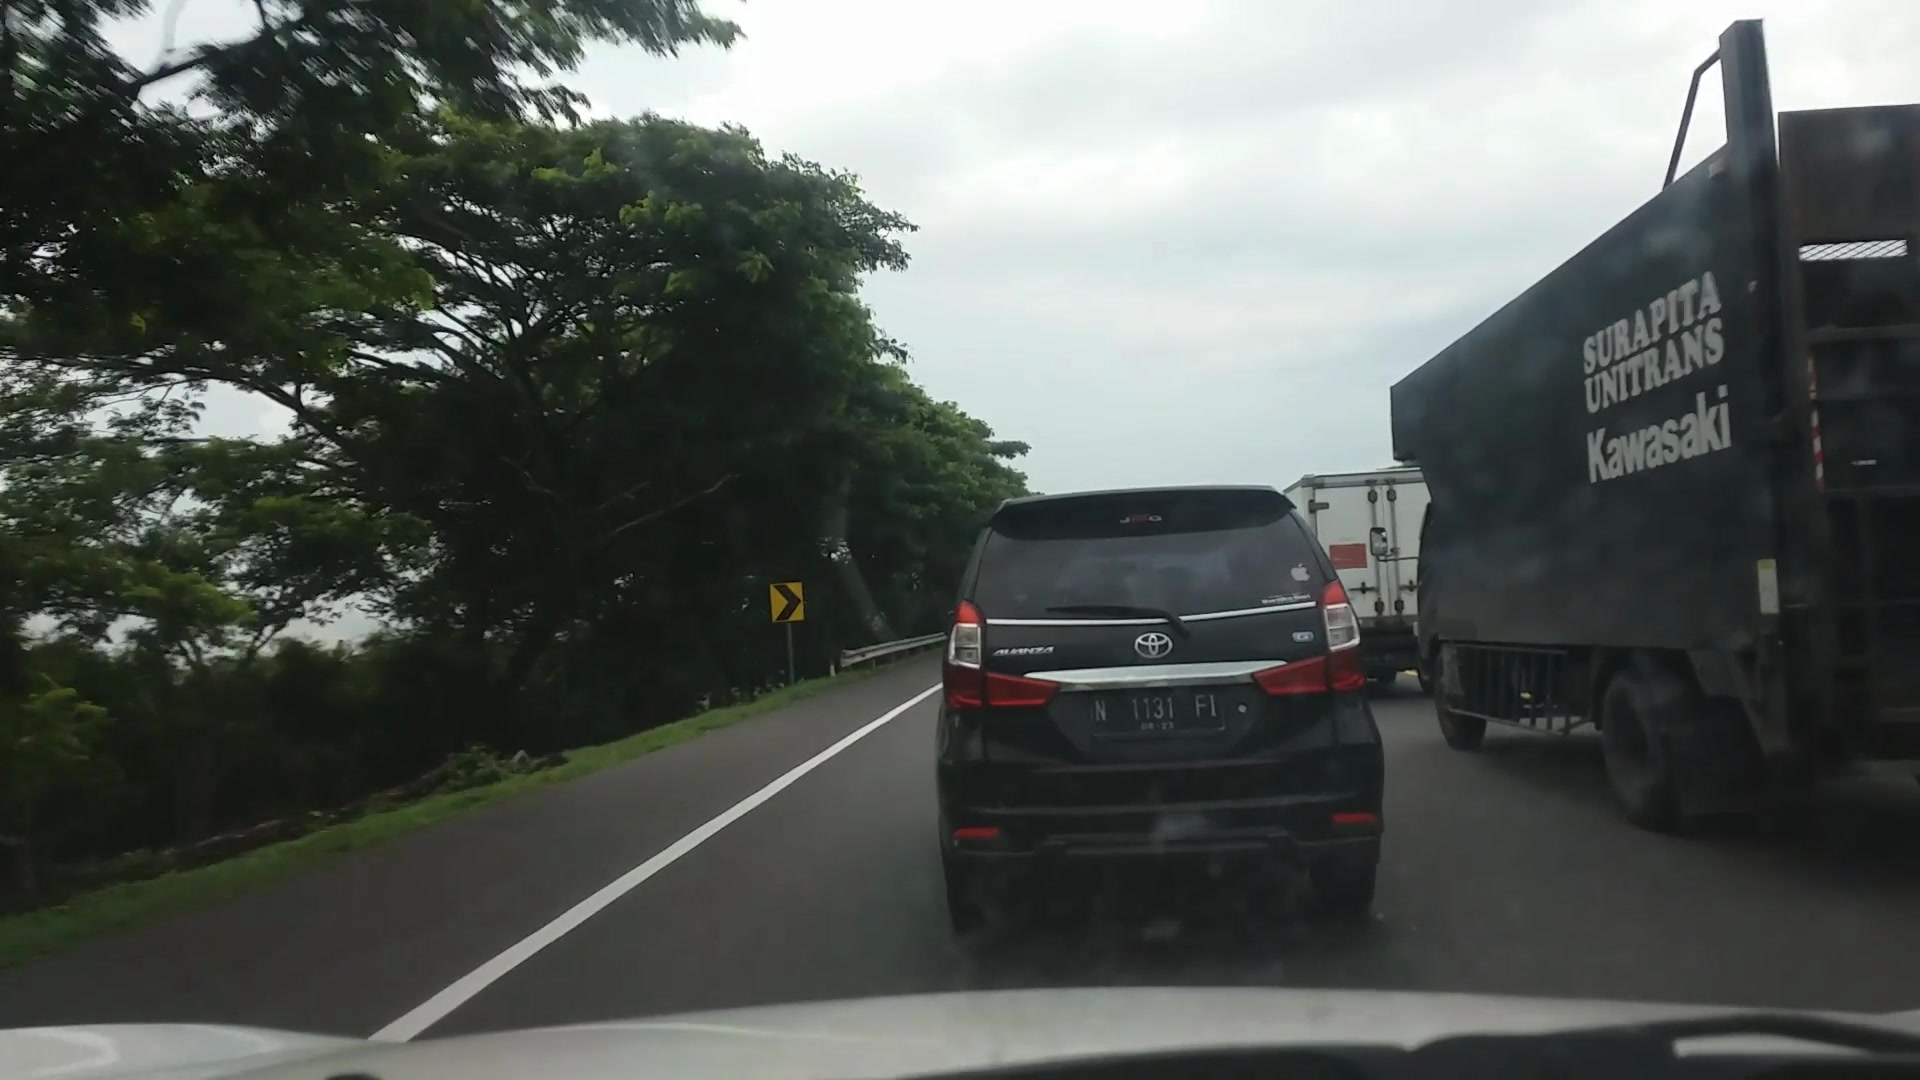plate_positive: (1091, 688, 1225, 735)
